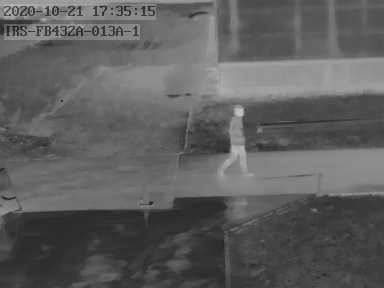person: (218, 103, 250, 174)
